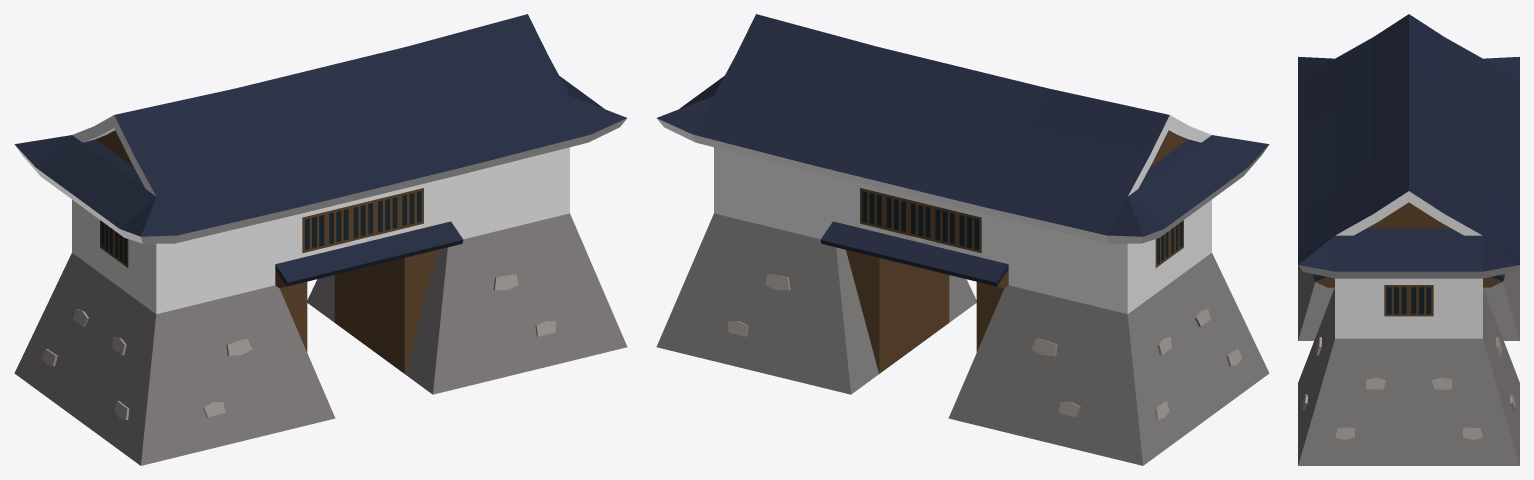
File: gate-japan.glb
3 views of the same model, side by side, from view 1: azimuth 30°, elevation 25°; view 2: azimuth 150°, elevation 25°; view 3: azimuth 270°, elevation 25° (orthographic). The views are drawn at different scales.
Parts seen in each view (by area): view 1: gate-japan; view 2: gate-japan; view 3: gate-japan.
Part boxes in pixels (box(x1,y1,x2,y2)): gate-japan: box(14, 14, 627, 465); gate-japan: box(656, 14, 1269, 465); gate-japan: box(1298, 14, 1519, 465).
Size of the model in its own units: 20 by 11.62 by 9.
Materials: 1 (1 with a texture image).
